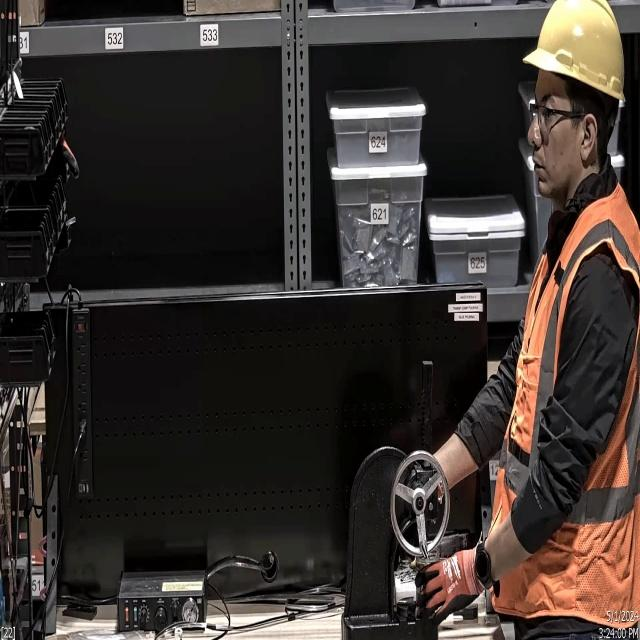gloves: (415, 550, 484, 632)
